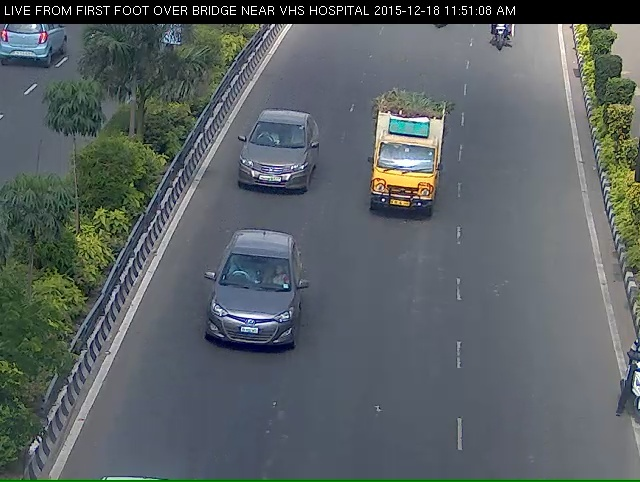Car: (362, 91, 450, 238), (196, 263, 304, 381), (226, 119, 317, 217)
Person: (488, 25, 520, 58)
